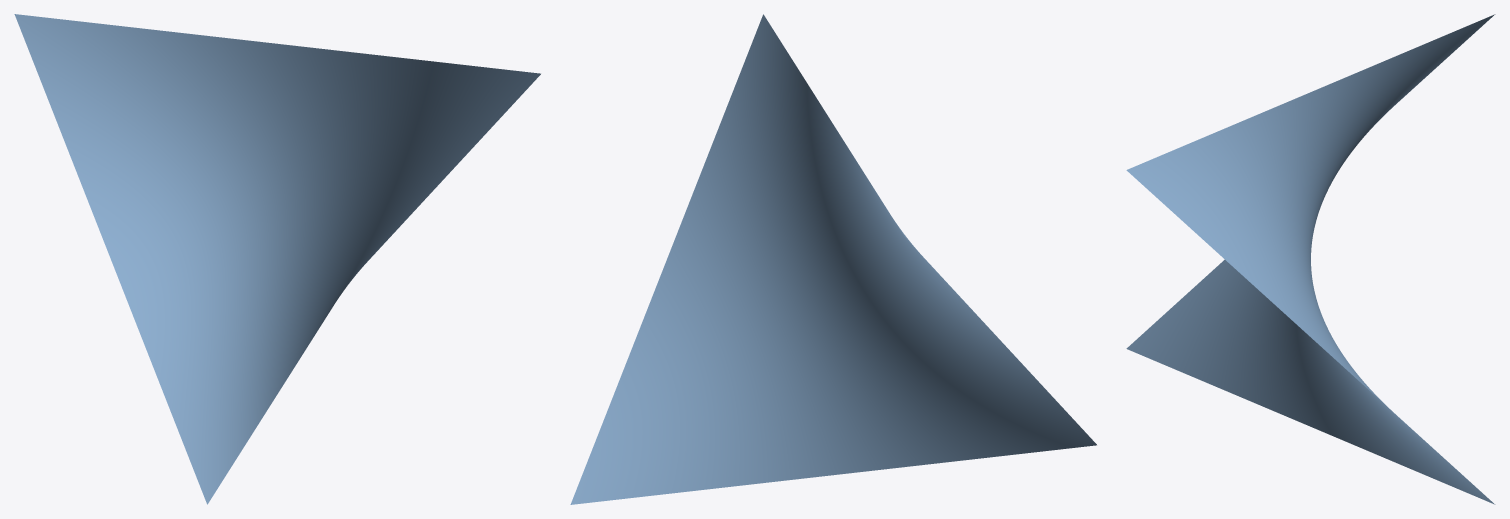
File: saddle.obj
3 renders of one model, left to right at view 1: azimuth 30°, elevation 25°; view 2: azimuth 150°, elevation 25°; view 3: azimuth 270°, elevation 25°, orthographic. The views are drawn at different scales.
Parts seen in each view (by area): view 1: saddle; view 2: saddle; view 3: saddle.
Part boxes in pixels (x1,y1,x2,y2): saddle: (14,14,540,504); saddle: (570,14,1096,504); saddle: (1126,14,1495,504).
Bounding box in the file's own units: 2 × 2 × 2.
